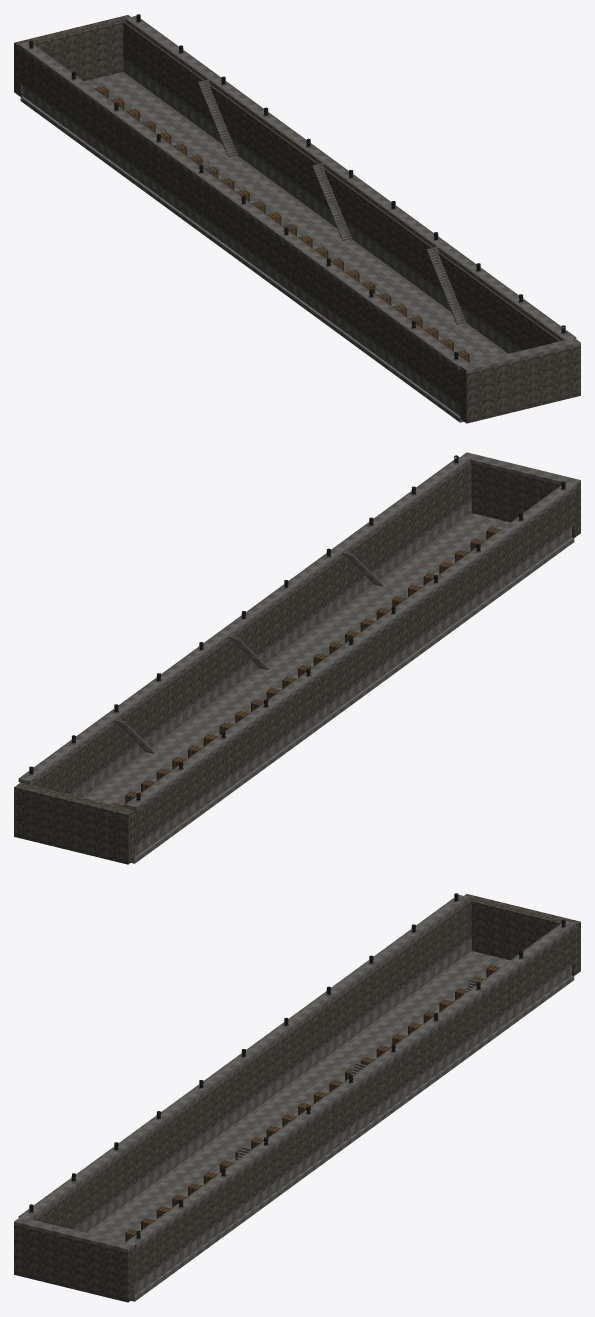
Rendered from B_no1_dock.glb.
The picture shows the model from 3 angles, top to bottom: view 1: azimuth 30°, elevation 25°; view 2: azimuth 150°, elevation 25°; view 3: azimuth 330°, elevation 25°; orthographic projection.
Visible parts, largest first — view 1: B_no1_dock; view 2: B_no1_dock; view 3: B_no1_dock.
Boxes of the visible parts, x1,y1,x2,y2 form: B_no1_dock: (14,14,580,423); B_no1_dock: (14,452,580,864); B_no1_dock: (14,893,580,1302).
Bounding box in the file's own units: 18.6 × 9.7 × 124.
Materials: 4 (4 with a texture image).
